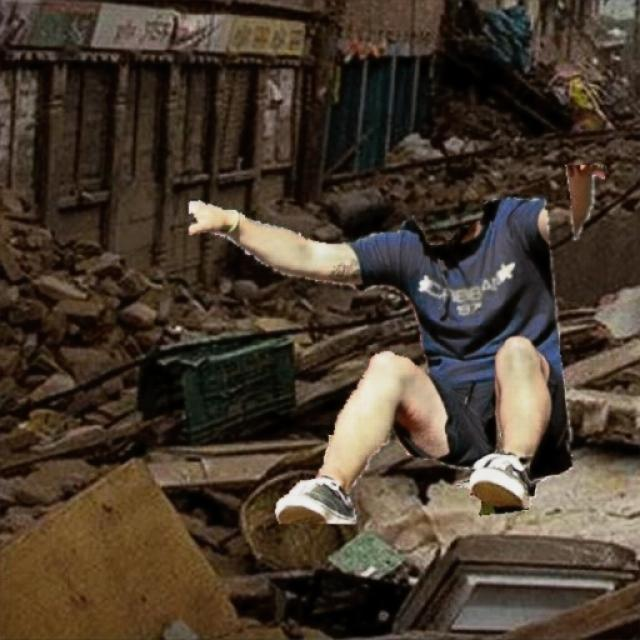Person in Rubble: (188, 165, 604, 523)
